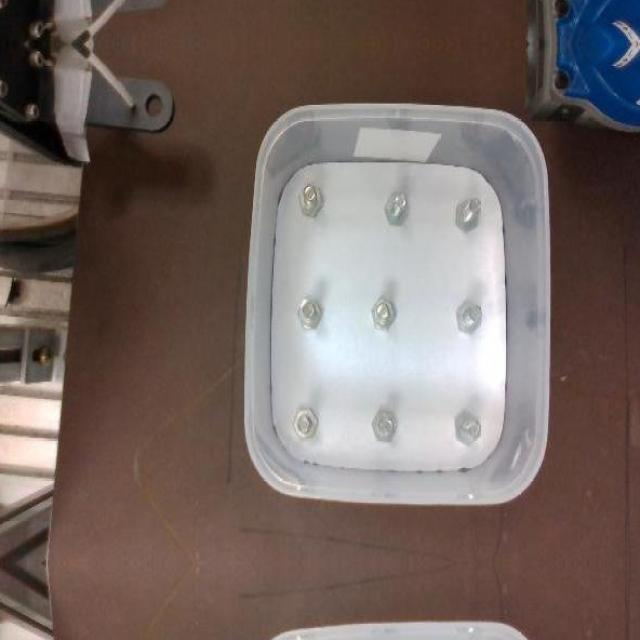screw: (455, 409, 480, 446), (384, 192, 410, 225), (457, 300, 482, 334), (373, 408, 398, 442), (457, 197, 480, 233), (293, 406, 318, 439), (298, 183, 322, 216), (370, 298, 394, 330), (298, 296, 321, 329)
